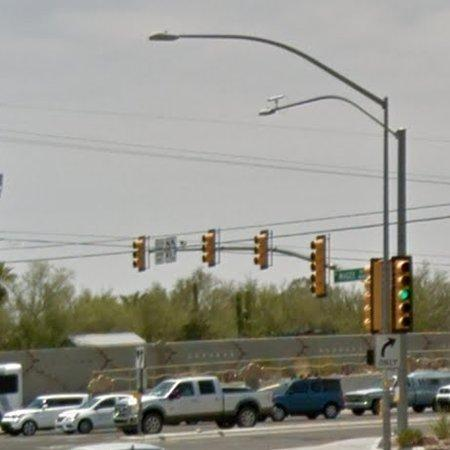traffic lights: (361, 256, 386, 337), (392, 253, 415, 333), (311, 236, 329, 297), (254, 230, 271, 274), (131, 233, 149, 271), (199, 226, 215, 266)
